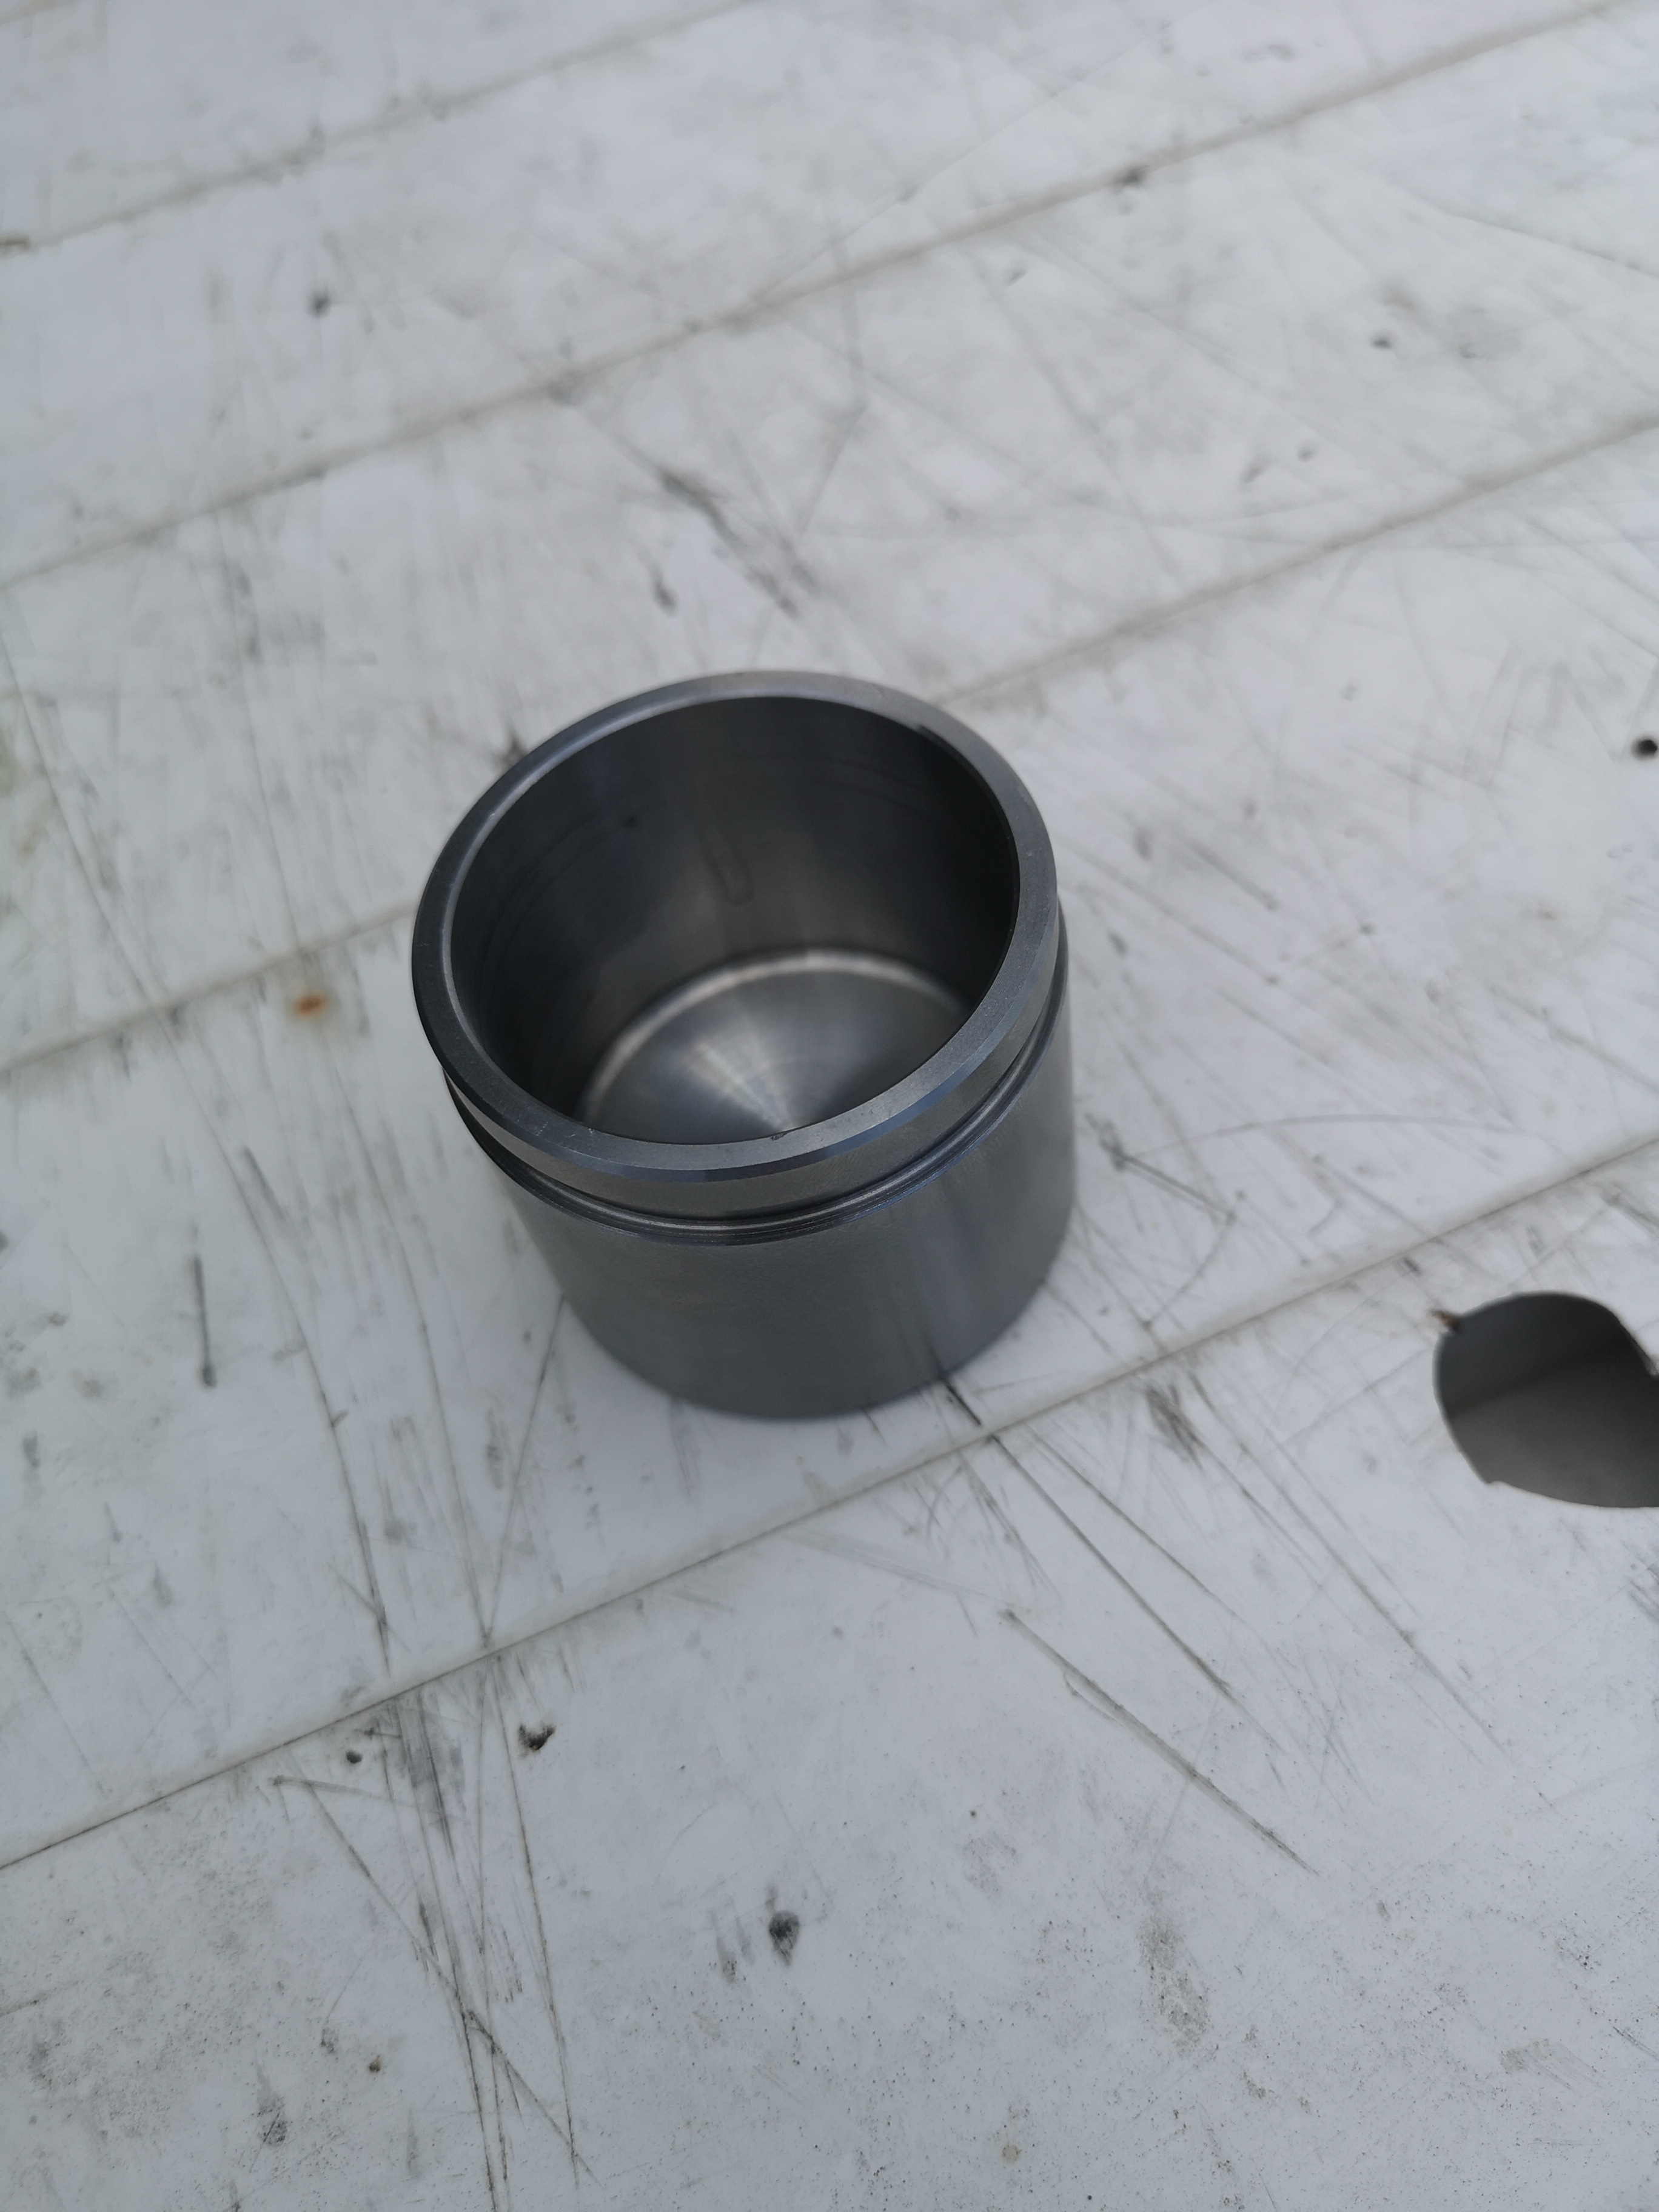ลูกสูบดิสเบรค: (375, 643, 1218, 1487)
